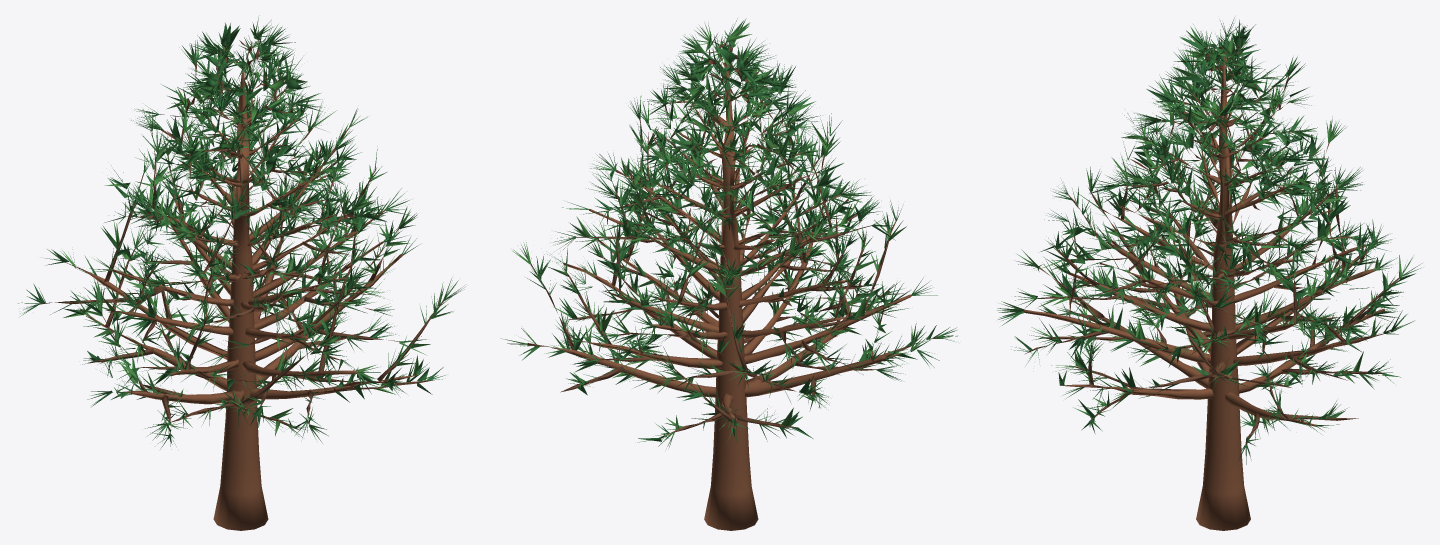
Rendered from 8_3_mid.glb.
3 renders of one model, left to right at view 1: azimuth 30°, elevation 25°; view 2: azimuth 150°, elevation 25°; view 3: azimuth 270°, elevation 25°, orthographic.
Visible parts, largest first — view 1: body; view 2: body; view 3: body.
Boxes of the visible parts, bbox=[...] form: body: bbox=[18, 15, 464, 530]; body: bbox=[500, 18, 957, 530]; body: bbox=[997, 17, 1421, 530].
Bounding box in the file's own units: 6.52 × 8.09 × 6.38.
Materials: 1 (1 with a texture image).
